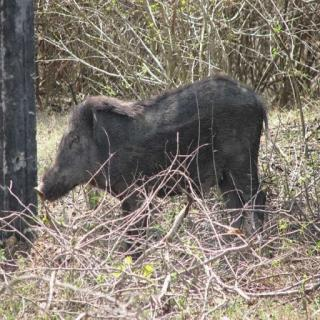Pig: (43, 75, 278, 257)
